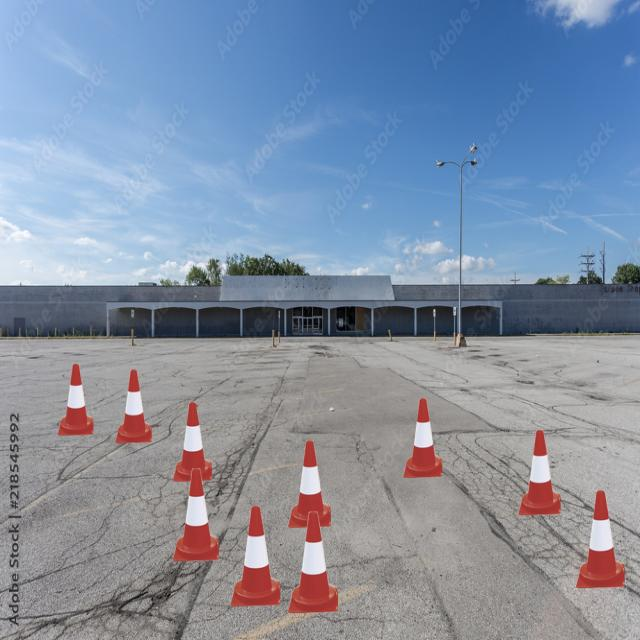orange_cone: (288, 512, 338, 613), (230, 506, 280, 606), (576, 491, 625, 588), (173, 468, 219, 562), (288, 440, 331, 528), (518, 430, 560, 515), (173, 402, 212, 482), (403, 398, 442, 478), (115, 369, 152, 444), (58, 364, 94, 436)
